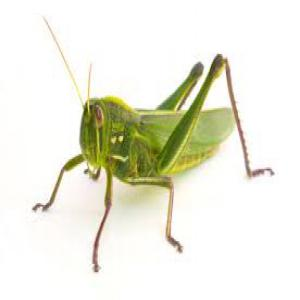locust: (72, 63, 262, 193)
